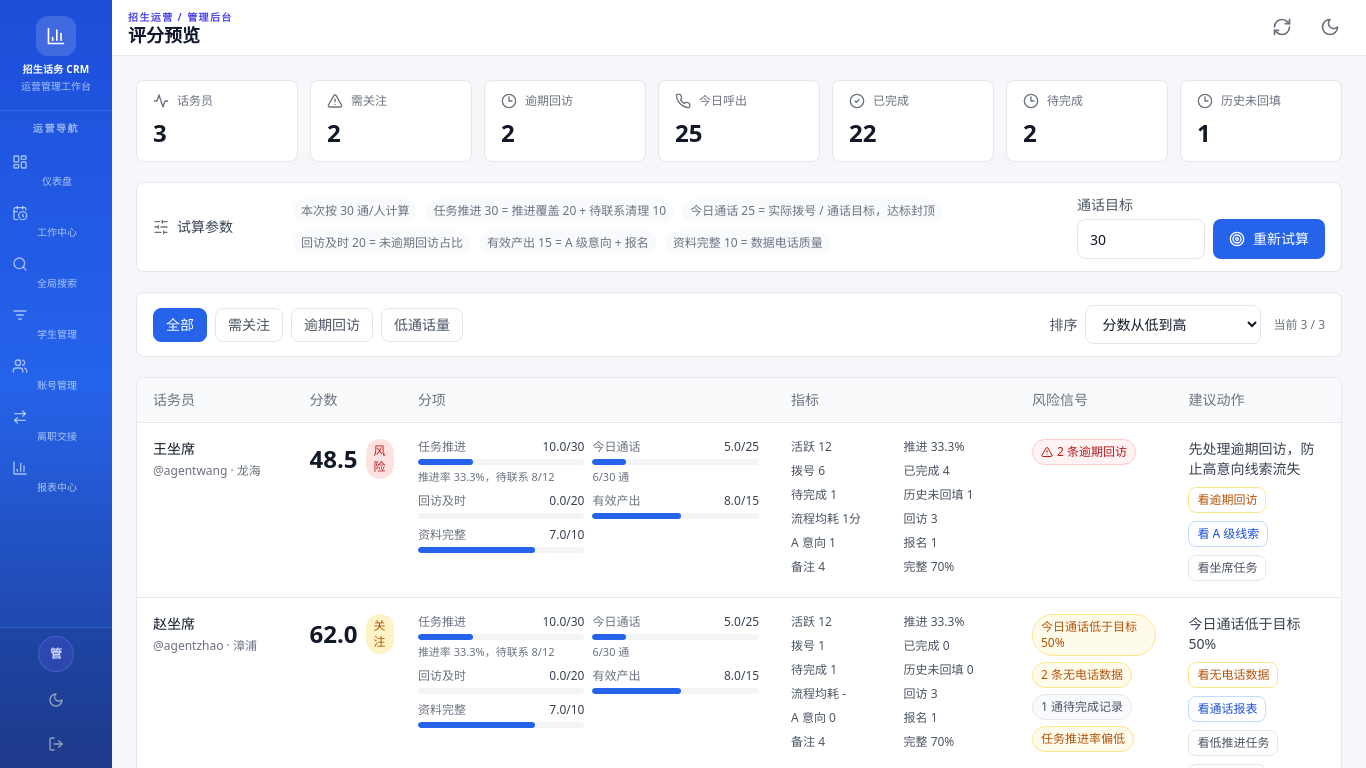
it: AgentScorePreview › filters overdue follow-up agents locally
This screenshot has width=1366, height=768.
Check: the text "王坐席" is shown, box [153,439,195,458]
Click the button "逾期回访". click: (332, 324)
box: [291,308,373,342]
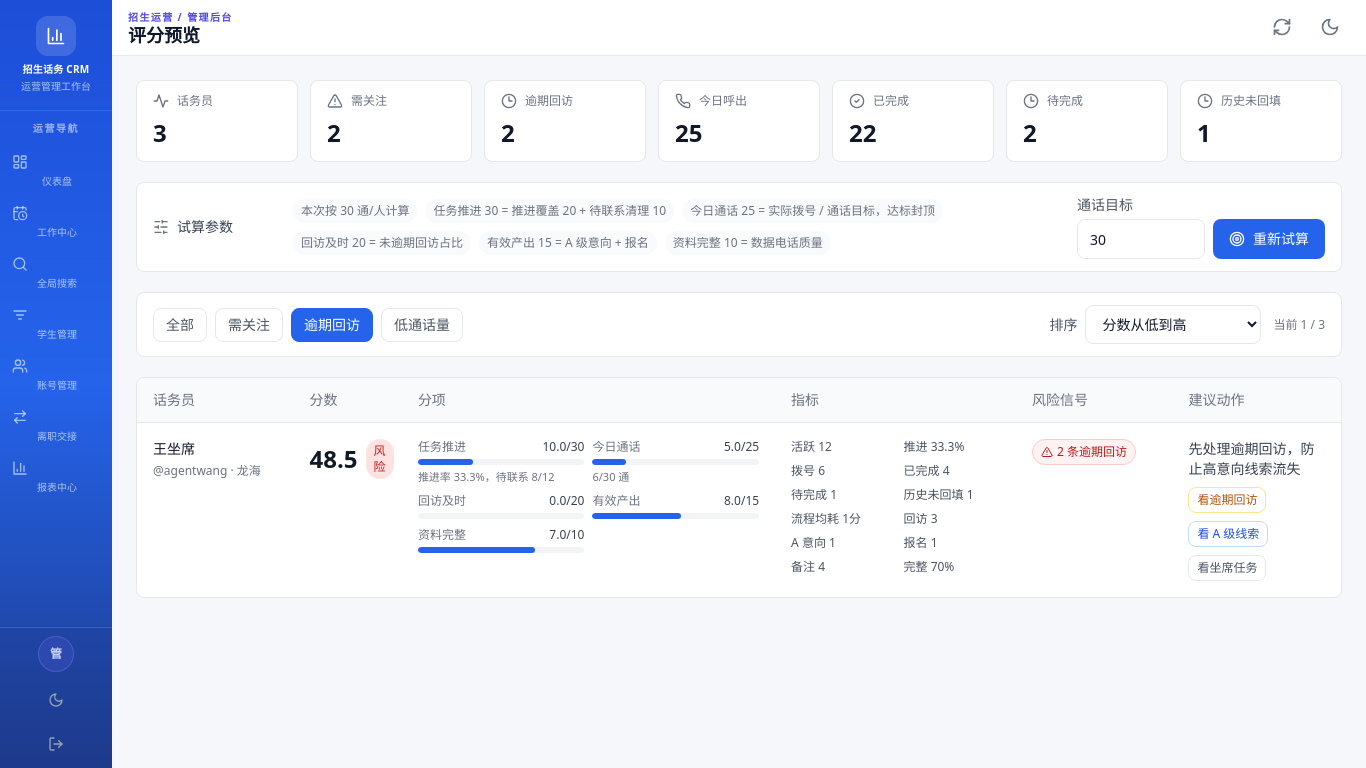
Check: the text "王坐席" is shown, box [153,439,195,458]
Check: the text "赵坐席" is gone
Check: the text "当前 1 / 3" is shown, box [1273,316,1325,332]
